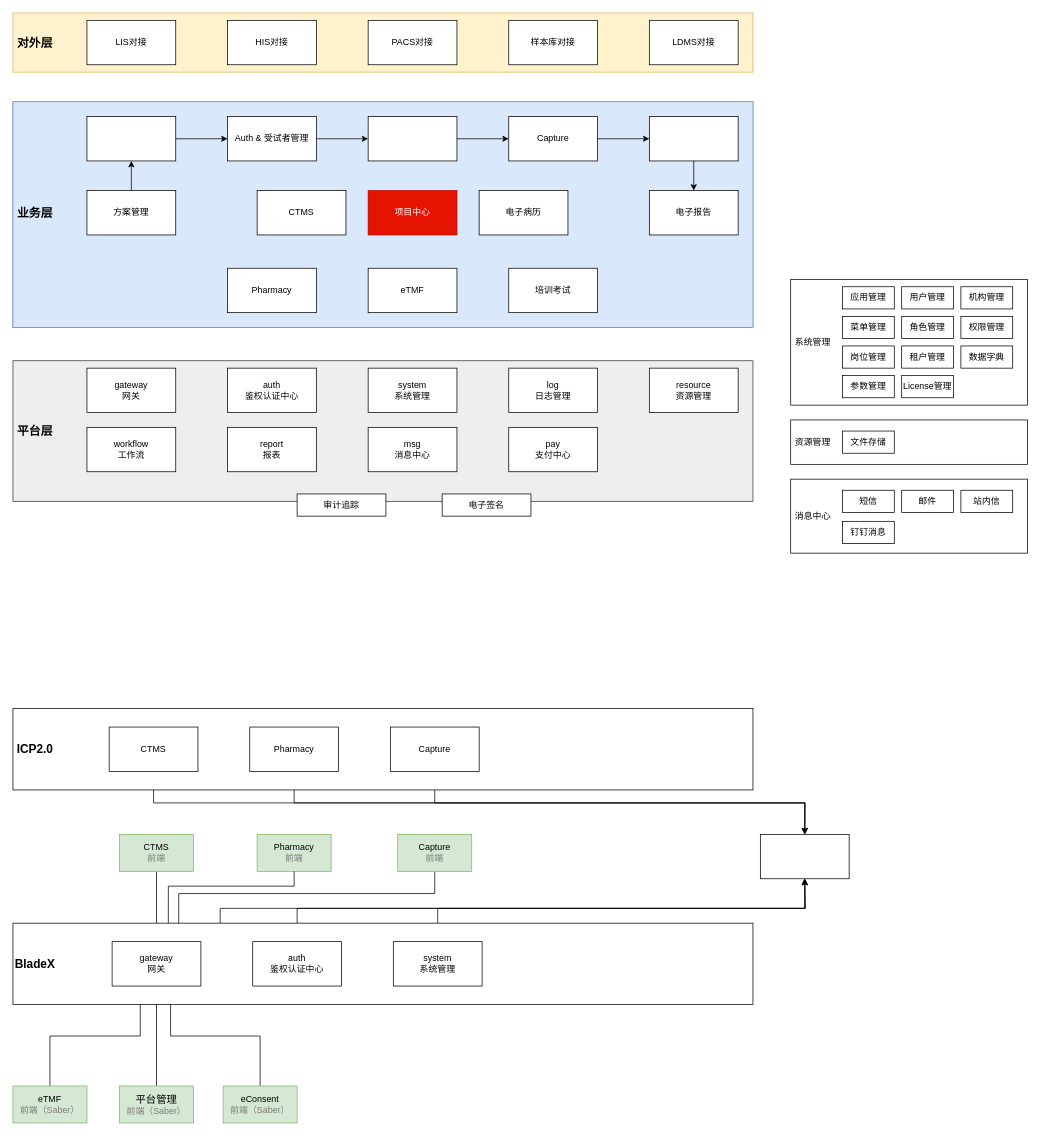
Image size: 1040x1136. Some labels were removed from this diagram. The shapes that lost their labels are listed below. From the top down, each one's centre as x and y in pixels, then its label:
the point at 131,138: ETHICS
the point at 412,138: eConsent
the point at 693,138: EDC
the point at 804,856: Nacos
